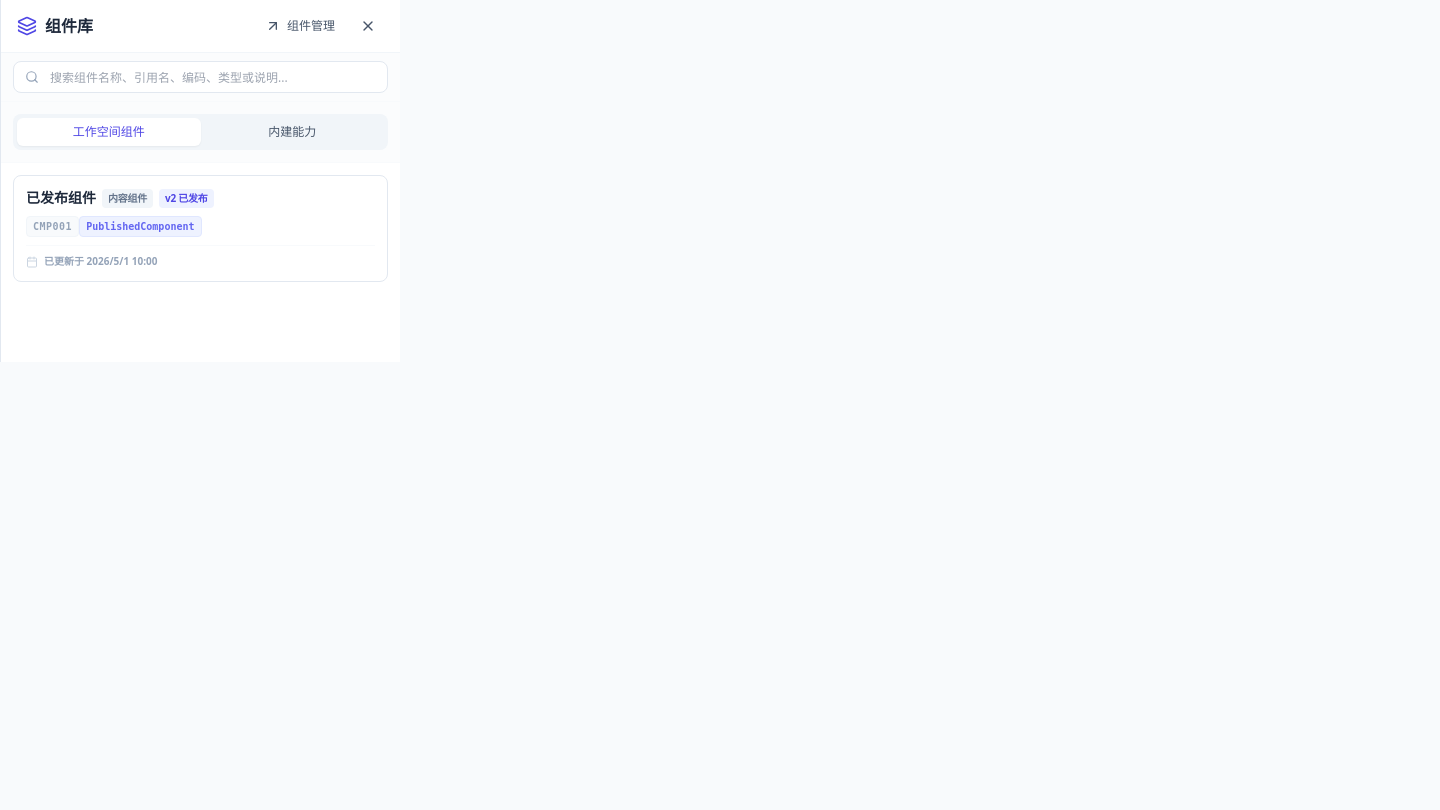
ComponentManagerPanel › 选择工作空间组件后应打开 ComponentPreviewWorkbench 预览弹窗
This screenshot has width=1440, height=810.
Expected: the heading "已发布组件" is shown, [26, 188, 96, 208]
Click the text "已发布组件" at [200, 228], box [13, 175, 388, 282]
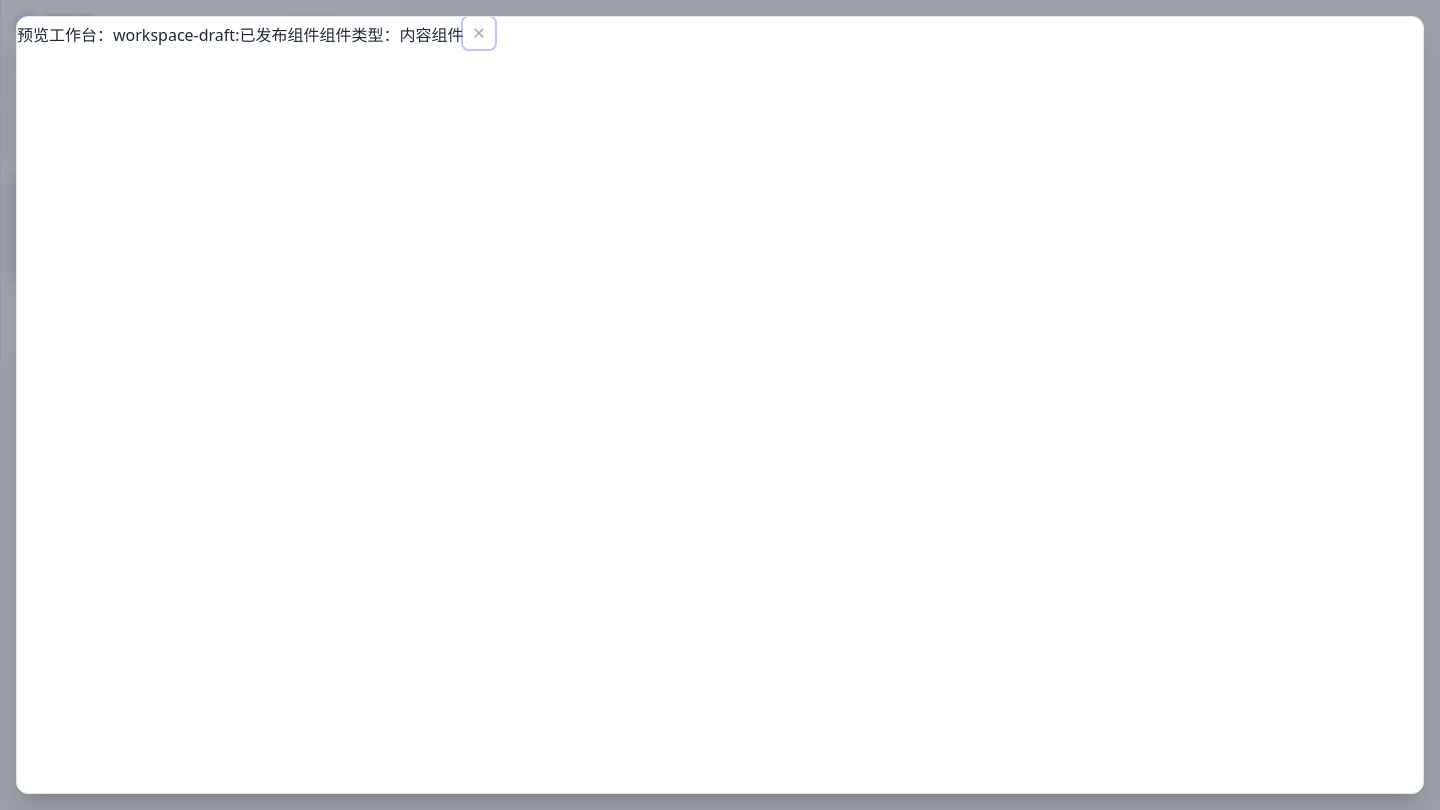
Result: the element with test id "preview-workbench" shows "预览工作台：workspace-draft:已发布组件" at [17, 24, 319, 46]
Result: the element with test id "preview-workbench" shows "组件类型：内容组件" at [319, 24, 463, 46]
